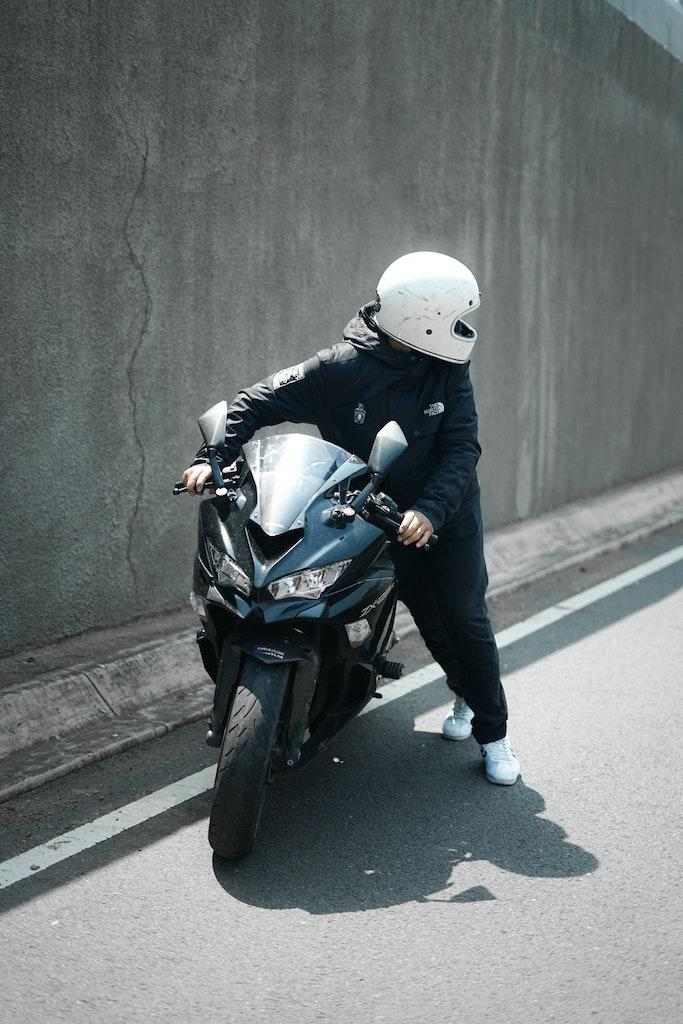helmet: (373, 250, 482, 367)
